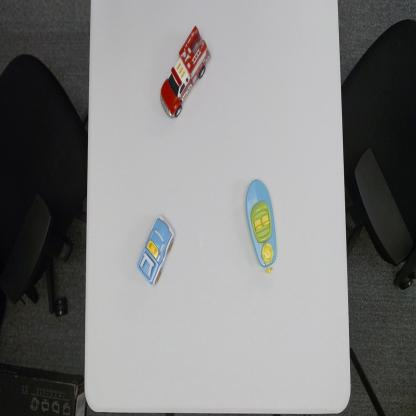Boat: (244, 177, 278, 276)
Car: (135, 213, 176, 287)
Firetruck: (158, 24, 211, 119)
